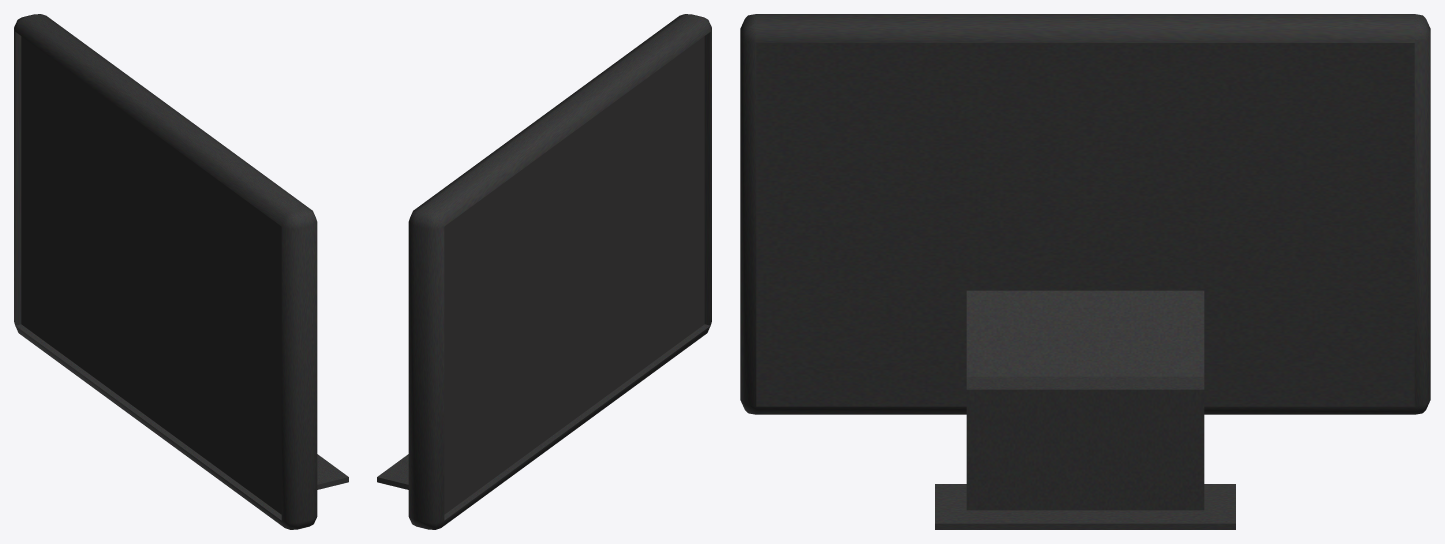
The model's file is ComputerOff.FBX.
The picture shows the model from 3 angles, left to right: view 1: azimuth 30°, elevation 25°; view 2: azimuth 150°, elevation 25°; view 3: azimuth 270°, elevation 25°; orthographic projection. The views are drawn at different scales.
Parts seen in each view (by area): view 1: ComputerOff; view 2: ComputerOff; view 3: ComputerOff.
Part boxes in pixels (x1,y1,x2,y2): ComputerOff: [14, 14, 348, 529]; ComputerOff: [377, 14, 711, 529]; ComputerOff: [740, 14, 1430, 529].
Size of the model in its own units: 5.81 by 14.08 by 20.12.
